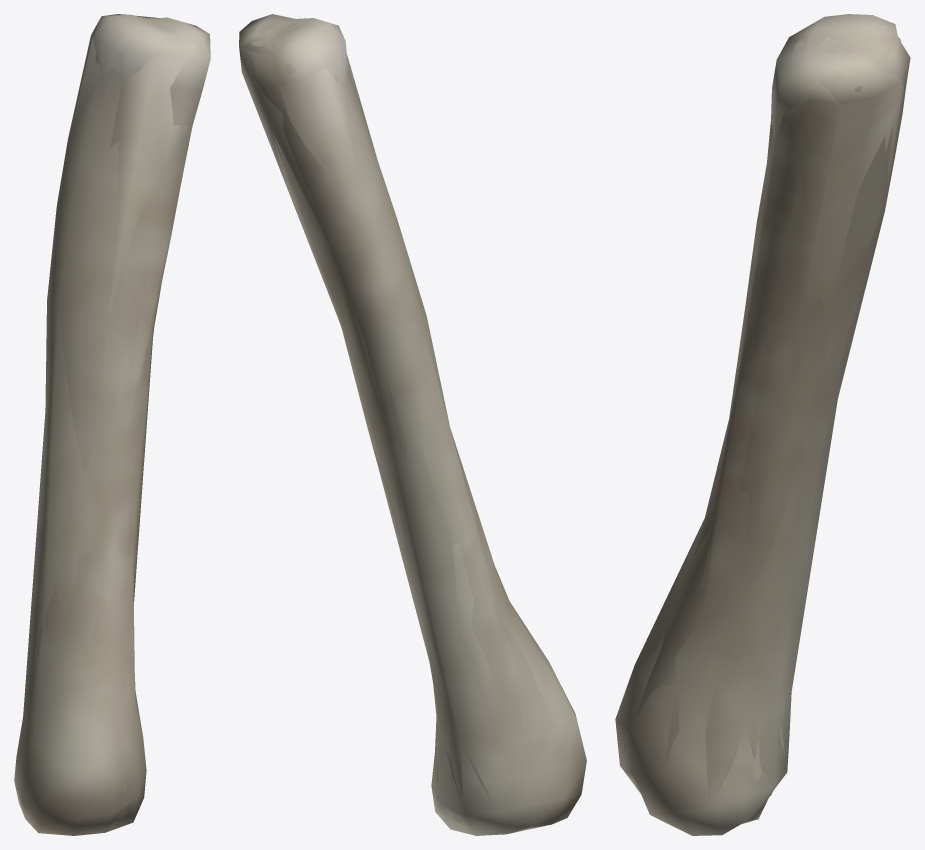
The model's file is R metacarpi quintum.fbx.
3 renders of one model, left to right at view 1: azimuth 30°, elevation 25°; view 2: azimuth 150°, elevation 25°; view 3: azimuth 270°, elevation 25°, orthographic. The views are drawn at different scales.
Visible parts, largest first — view 1: R metacarpi quintum, R metacarpi quintum low, R metacarpi quintum high; view 2: R metacarpi quintum, R metacarpi quintum low, R metacarpi quintum high; view 3: R metacarpi quintum low, R metacarpi quintum, R metacarpi quintum high.
Part boxes in pixels (box(x1,y1,x2,y2)): R metacarpi quintum: box(14, 14, 210, 835); R metacarpi quintum low: box(17, 14, 210, 834); R metacarpi quintum high: box(22, 15, 198, 820); R metacarpi quintum: box(239, 14, 586, 835); R metacarpi quintum low: box(239, 25, 585, 833); R metacarpi quintum high: box(251, 21, 557, 829); R metacarpi quintum low: box(621, 25, 904, 833); R metacarpi quintum: box(615, 14, 910, 835); R metacarpi quintum high: box(624, 22, 900, 796).
Size of the model in its own units: 0.5826 by 1.75 by 0.5429.
1 material, 1 textured.
